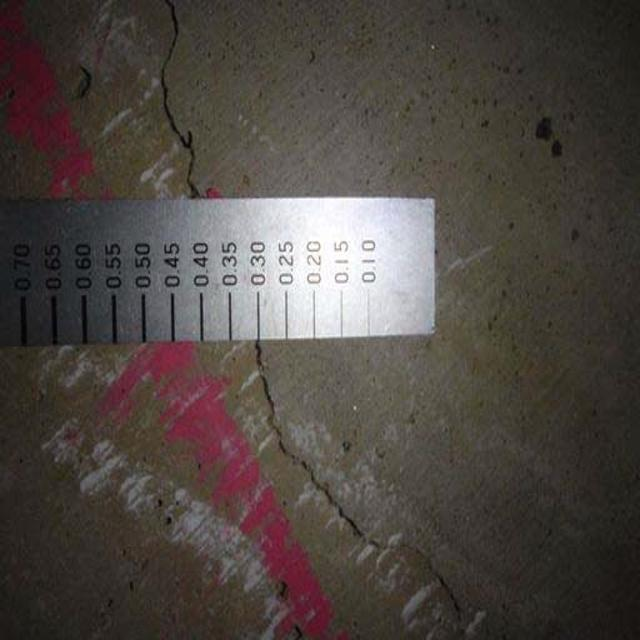crack: (246, 347, 484, 633), (149, 3, 227, 200)
